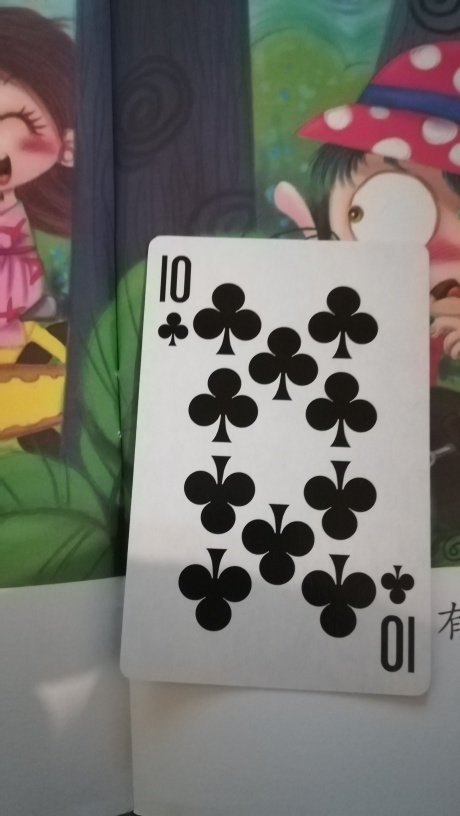mh 10: (119, 235, 434, 699)
